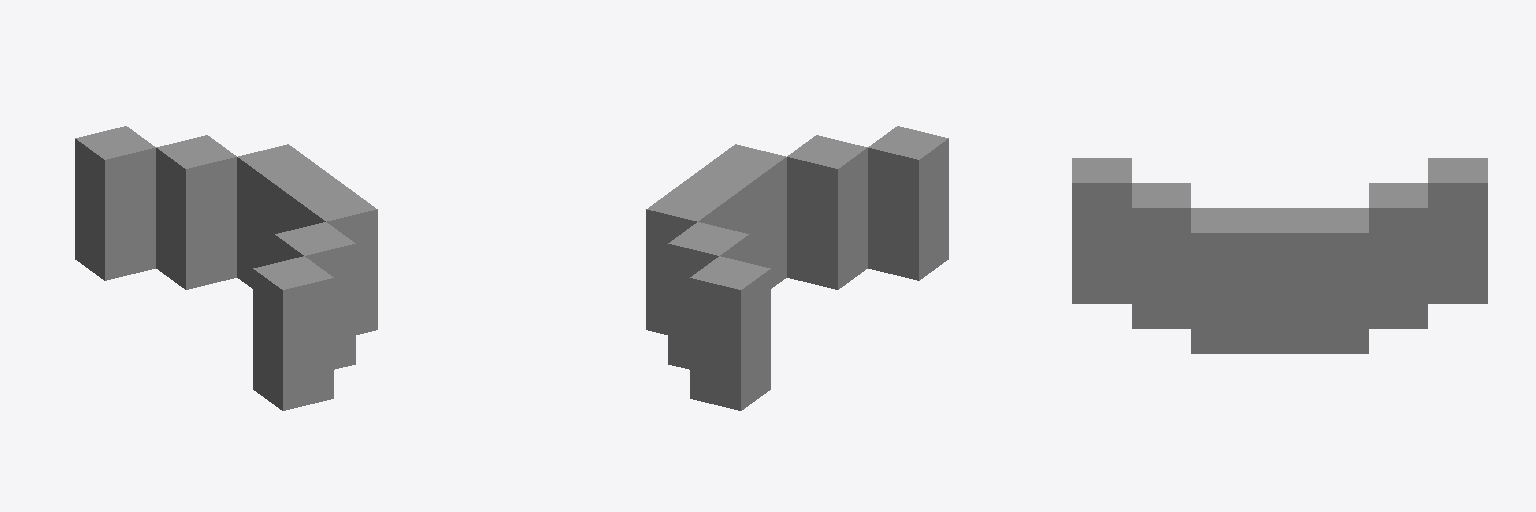
The model's file is Round_Bracket_Close.obj.
3 views of the same model, side by side, from view 1: azimuth 30°, elevation 25°; view 2: azimuth 150°, elevation 25°; view 3: azimuth 270°, elevation 25° (orthographic).
Parts seen in each view (by area): view 1: Round_Bracket_Close_CUABC.043; view 2: Round_Bracket_Close_CUABC.043; view 3: Round_Bracket_Close_CUABC.043.
Part boxes in pixels (x1,y1,x2,y2): Round_Bracket_Close_CUABC.043: (75,126,377,410); Round_Bracket_Close_CUABC.043: (646,126,948,410); Round_Bracket_Close_CUABC.043: (1072,158,1487,353).
Size of the model in its own units: 0.3333 by 0.25 by 0.7778.